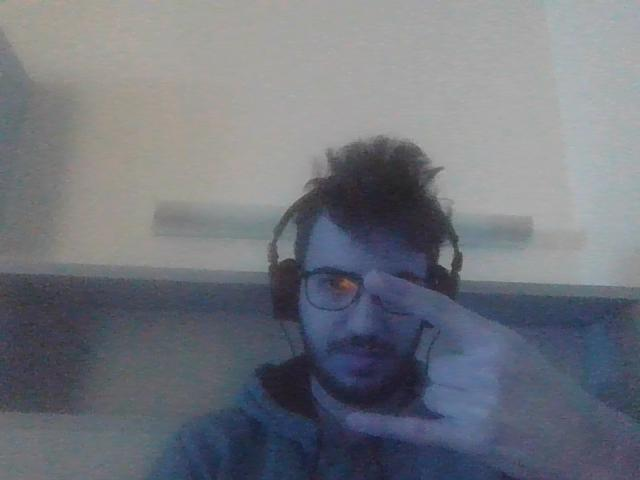iloveyou: (356, 265, 640, 480)
